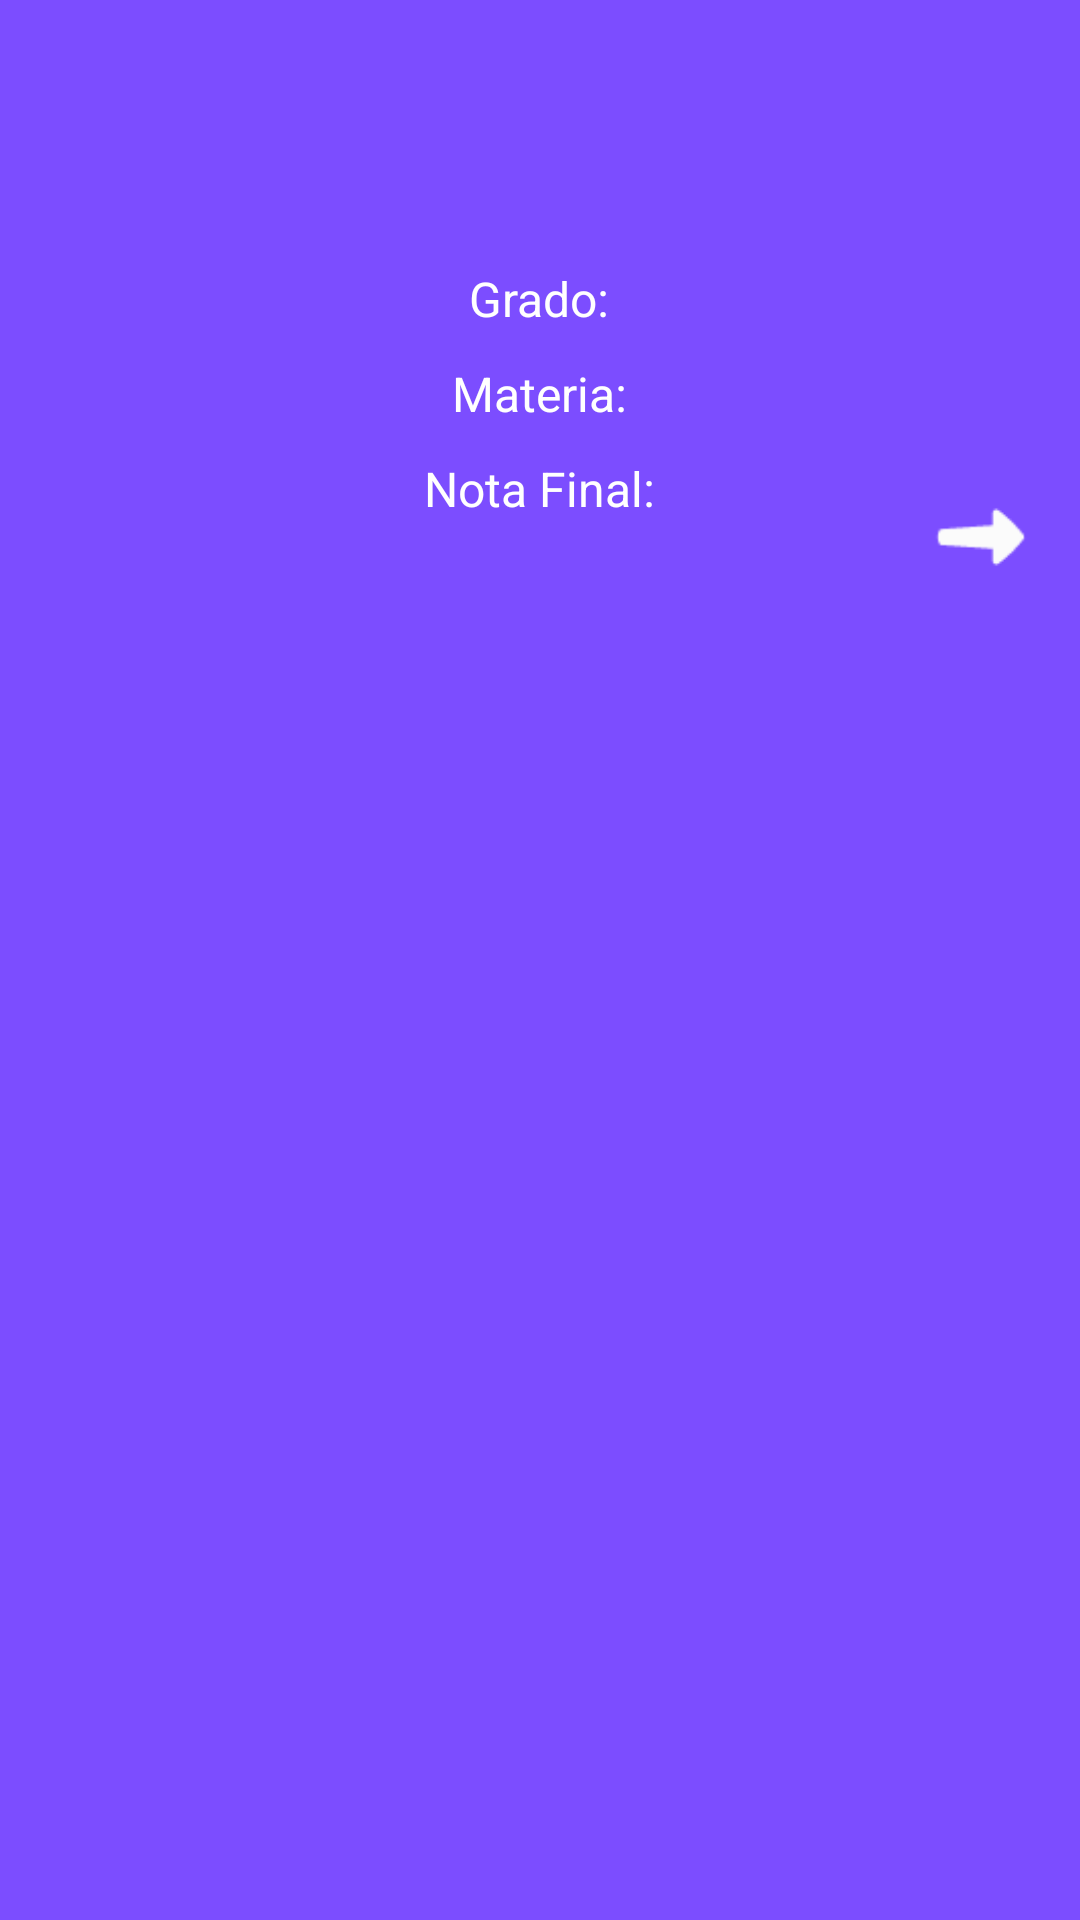

Where to tap for icons on this 1080 × 1920 app screen, as (x,y):
right arrow: (981,537)
